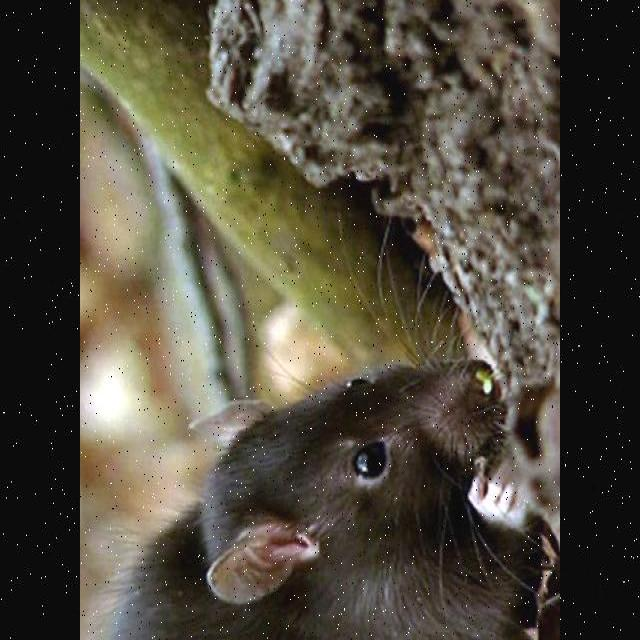rat: (91, 349, 547, 640)
